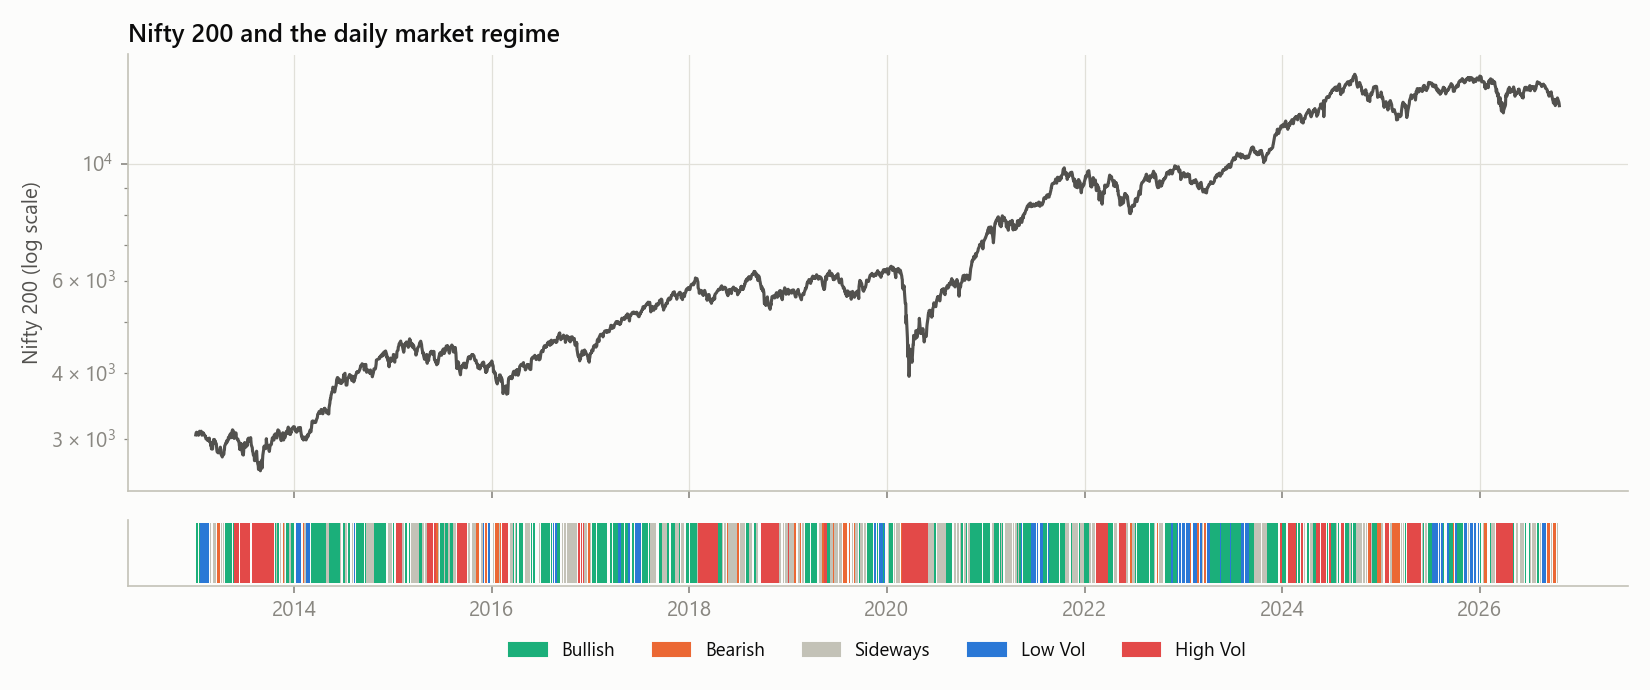

The page's visual inventory and layout, read from the dashboard file:
{"tool":"tableau","page":{"name":"Dashboard 1","canvas":[1000,800],"ordinal":0},"visuals":[{"type":"worksheet","title":"Sheet 1","mark":"Automatic","rows":["z"],"cols":["Date"],"box":[8,8,412,261.3]},{"type":"worksheet","title":"Sheet 3","mark":"Line","cols":["Date"],"box":[420,8,412,261.3]},{"type":"legend","title":"Sheet 1","param":"[federated.19si9l40ba8dr41byplfu1h1seoh].[sum:rf_proba:qk]","box":[832,8,160,81]},{"type":"legend","title":"Sheet 2","param":"[federated.19si9l40ba8dr41byplfu1h1seoh].[:Measure Names]","box":[832,89,160,84]},{"type":"legend","title":"Sheet 3","param":"[federated.19si9l40ba8dr41byplfu1h1seoh].[sum:zscore:qk]","box":[832,173,160,81]},{"type":"legend","title":"Sheet 4","param":"[federated.1gsm4f41pe66d410ouppg0kuy78u].[none:strategy:nk]","box":[832,254,160,84]},{"type":"worksheet","title":"Sheet 5","mark":"Circle","rows":["coint_pvalue"],"cols":["corr_train"],"box":[8,269.3,824,261.3]},{"type":"legend","title":"Sheet 5","param":"[federated.0bwba8i1wrdobm19nq3bj0gpv6jj].[none:sector:nk]","box":[832,338,160,134]},{"type":"worksheet","title":"Sheet 2","mark":"Automatic","cols":["Date"],"box":[8,530.7,412,261.3]},{"type":"worksheet","title":"Sheet 6","mark":"Automatic","rows":["final_action","stock_a","stock_b"],"box":[420,530.7,412,130.7]},{"type":"worksheet","title":"Sheet 4","mark":"Automatic","rows":["MaxDD"],"cols":["strategy"],"box":[420,661.3,412,130.7]}]}

Visuals, with their boxes on the page's 1000x800 design canvas (x1, y1, x2, y2). These are canvas units, not pixel positions in the 1650x690 screenshot, which may show the page scaled, cropped or inside an application window:
"Sheet 1" worksheet: locate(8, 8, 420, 269)
"Sheet 3" worksheet (Line marks): locate(420, 8, 832, 269)
"Sheet 1" legend: locate(832, 8, 992, 89)
"Sheet 2" legend: locate(832, 89, 992, 173)
"Sheet 3" legend: locate(832, 173, 992, 254)
"Sheet 4" legend: locate(832, 254, 992, 338)
"Sheet 5" worksheet (Circle marks): locate(8, 269, 832, 531)
"Sheet 5" legend: locate(832, 338, 992, 472)
"Sheet 2" worksheet: locate(8, 531, 420, 792)
"Sheet 6" worksheet: locate(420, 531, 832, 661)
"Sheet 4" worksheet: locate(420, 661, 832, 792)
